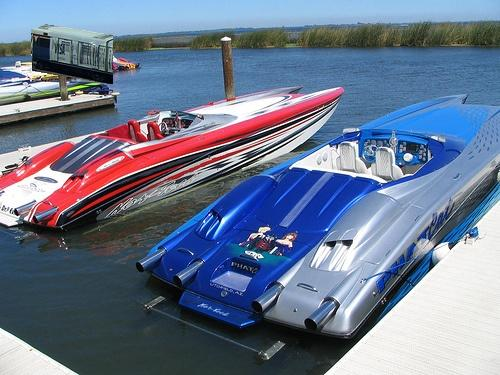tampered: (32, 25, 113, 84)
